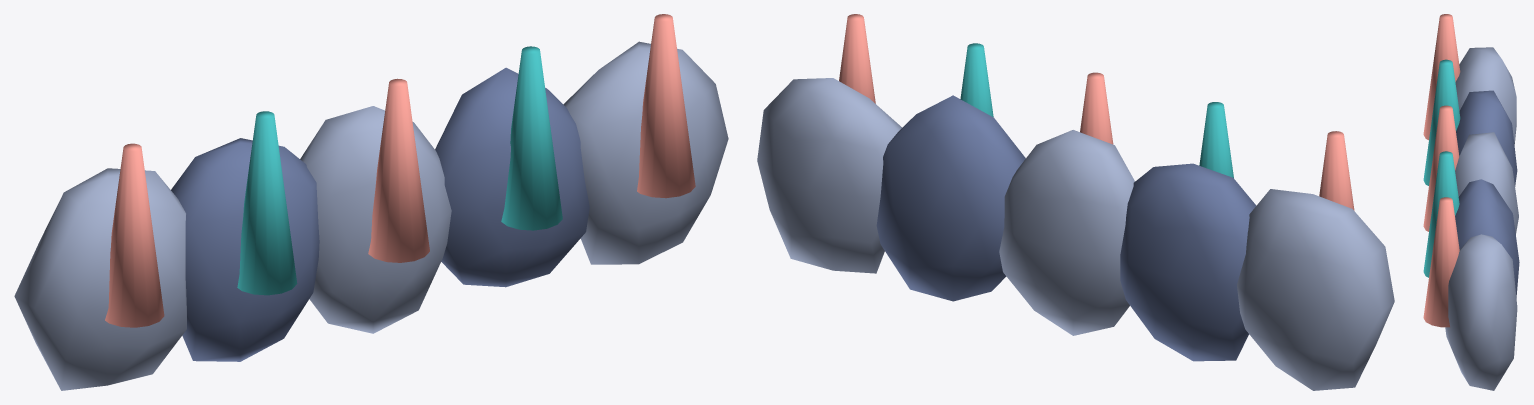
File: r051_dungeon_arena_walls_dungeon_walls.glb
3 renders of one model, left to right at view 1: azimuth 30°, elevation 25°; view 2: azimuth 150°, elevation 25°; view 3: azimuth 270°, elevation 25°, orthographic. The views are drawn at different scales.
Visible parts, largest first — view 1: r051_dungeon_arena_walls_dungeon_walls.001; view 2: r051_dungeon_arena_walls_dungeon_walls.001; view 3: r051_dungeon_arena_walls_dungeon_walls.001.
Part boxes in pixels (x1,y1,x2,y2): r051_dungeon_arena_walls_dungeon_walls.001: [14, 14, 728, 390]; r051_dungeon_arena_walls_dungeon_walls.001: [757, 14, 1394, 390]; r051_dungeon_arena_walls_dungeon_walls.001: [1423, 14, 1519, 390].
Bounding box in the file's own units: 10.49 × 3.88 × 1.77.
